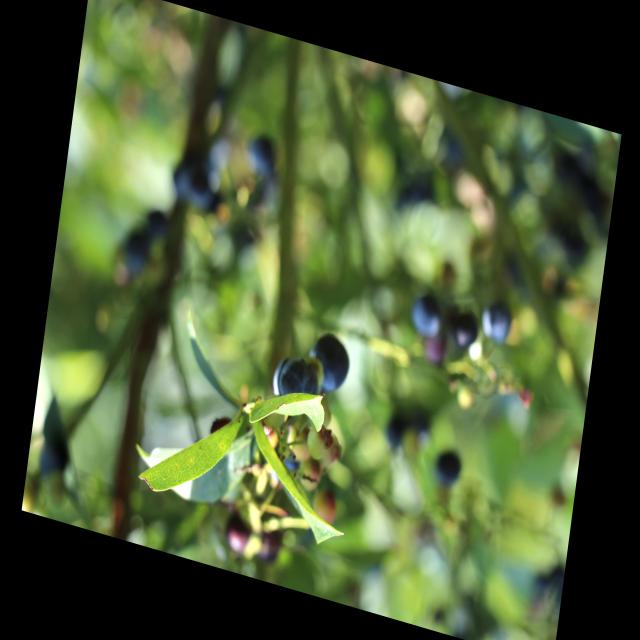blueberry: (306, 325, 358, 399), (268, 352, 320, 417), (408, 294, 444, 340), (481, 303, 513, 349), (450, 312, 478, 352)
blueberry-unripe: (303, 422, 333, 462), (321, 432, 343, 471), (300, 458, 321, 492)
